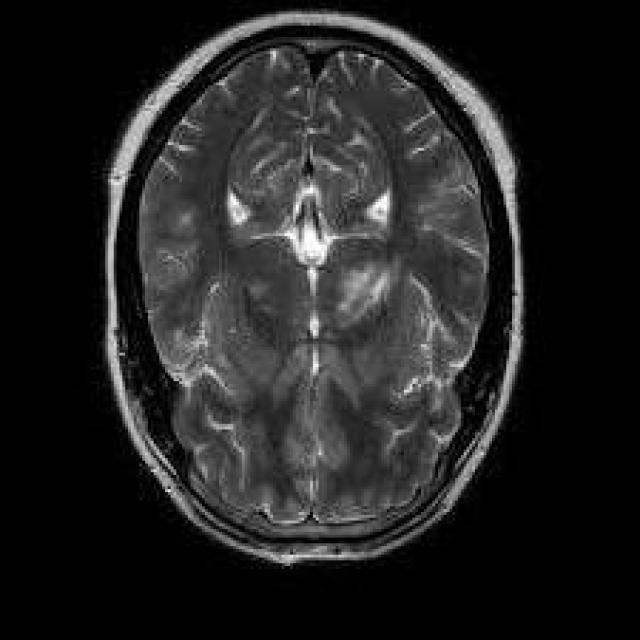notumor: (108, 9, 521, 563)
